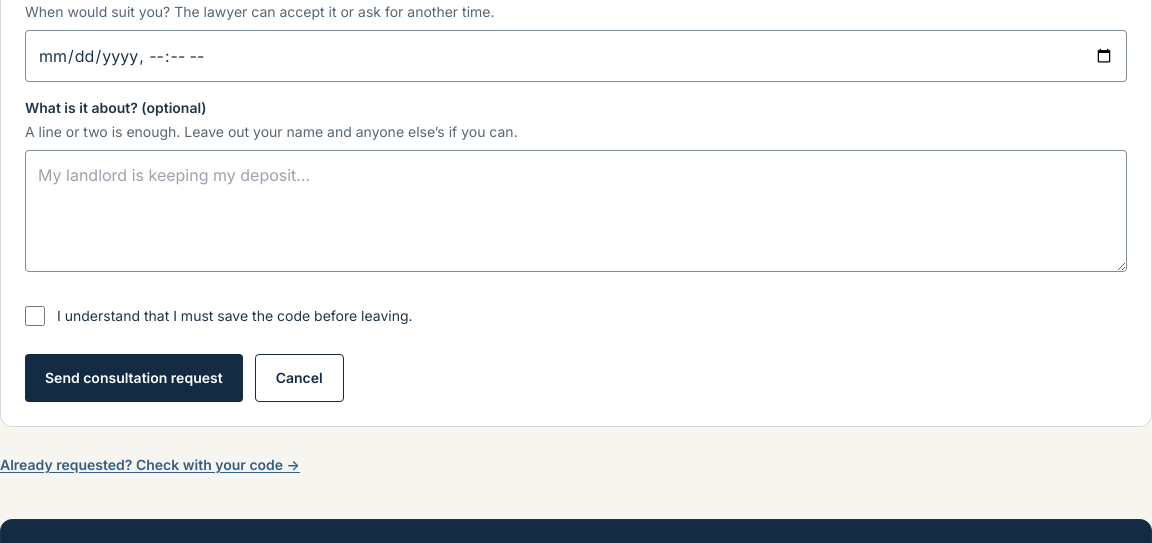
Test: Booking a lawyer as a visitor › refuses a missing time without sending anything
This screenshot has width=1152, height=543.
(page scrolled)
What coordinates should you click on to do the following:
click the checkbox labelled "I understand that I must save the code before leaving."
I would click on:
 (35, 316)
Its box is [25,306,45,326].
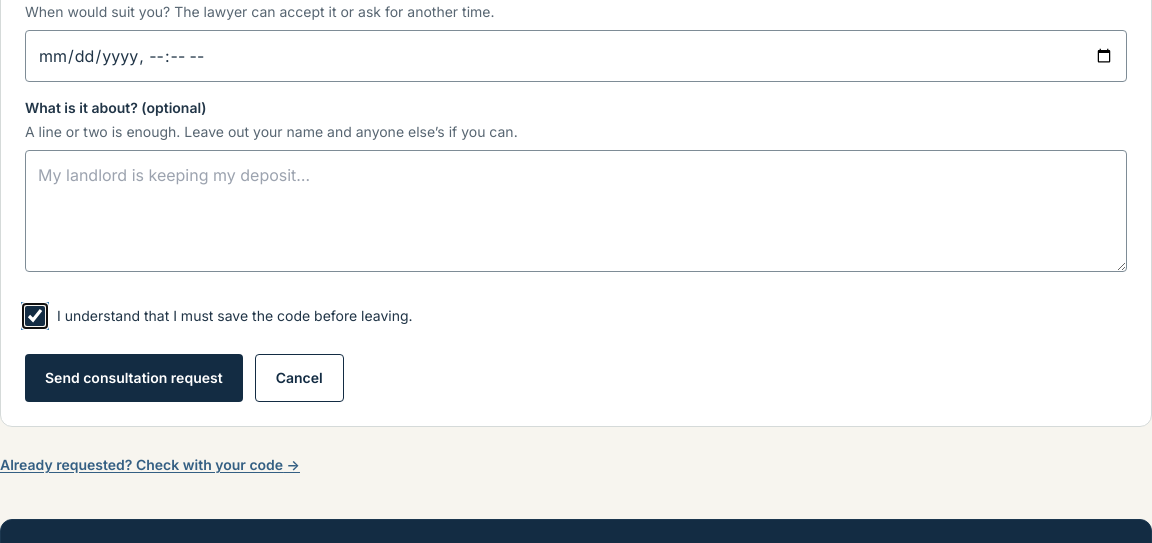
What coordinates should you click on to do the following:
click the button "Send consultation request"
I would click on:
 (134, 378)
Its box is [25,354,243,402].
(page scrolled)
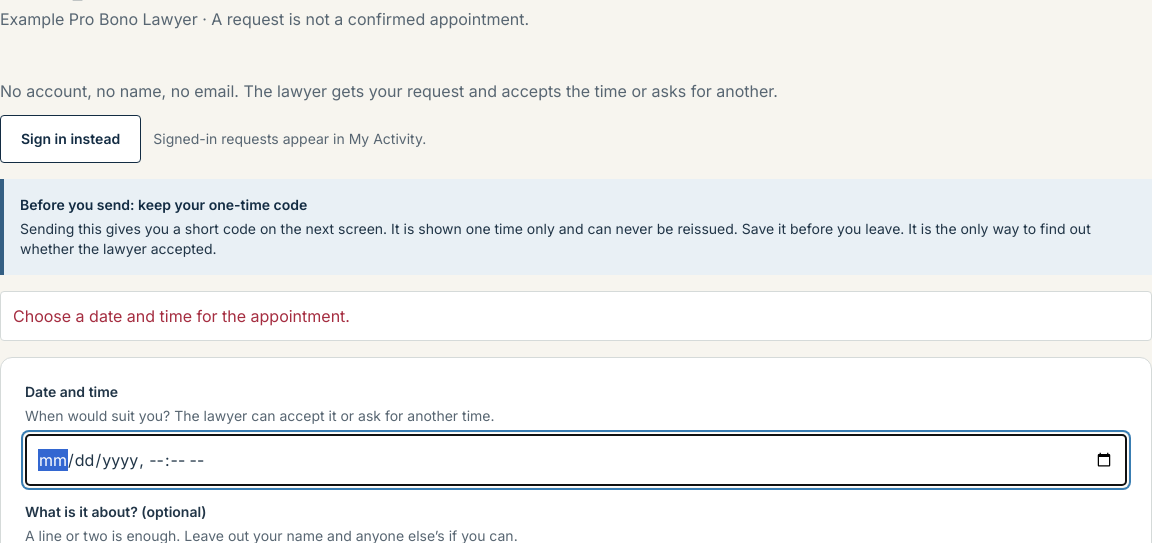
Expected: the text "Choose a date and time for the appointment." is shown, [0,291,1151,341]
